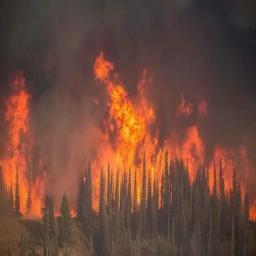Heavy smoke: (4, 1, 254, 79)
Large fire: (87, 50, 256, 221), (3, 71, 76, 222)
